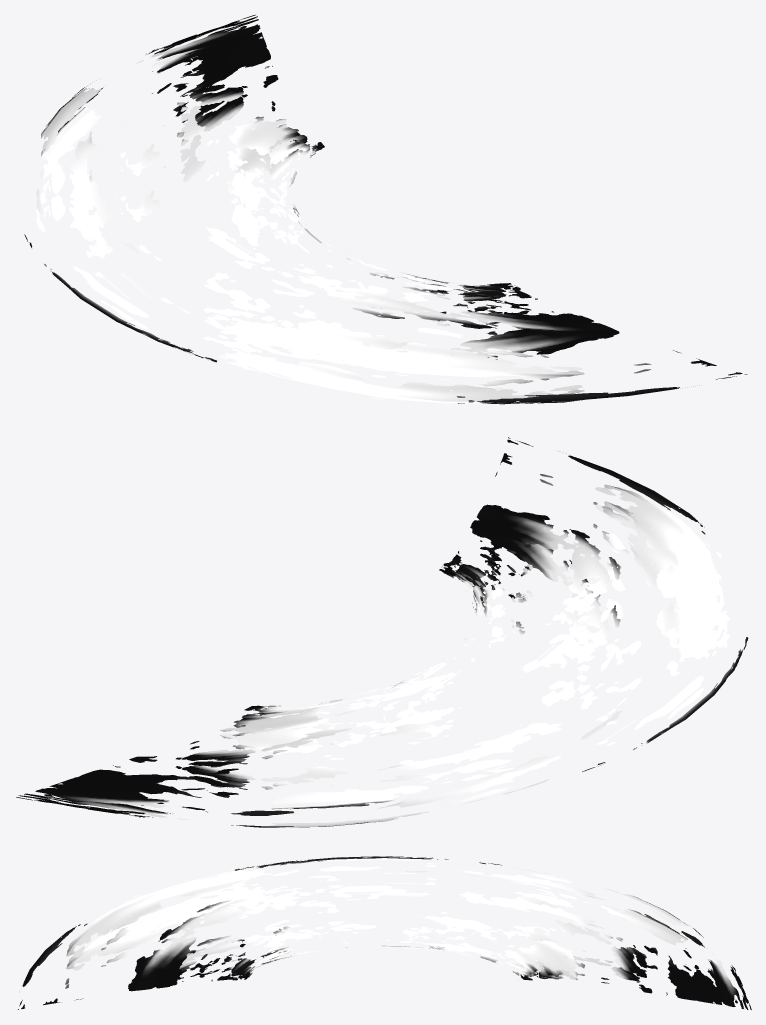
File: DefaultSlash.fbx
The picture shows the model from 3 angles, top to bottom: view 1: azimuth 30°, elevation 25°; view 2: azimuth 150°, elevation 25°; view 3: azimuth 270°, elevation 25°; orthographic projection. The views are drawn at different scales.
Visible parts, largest first — view 1: SM_e_cmn_Slash003.001; view 2: SM_e_cmn_Slash003.001; view 3: SM_e_cmn_Slash003.001.
Part boxes in pixels (x1,y1,x2,y2): SM_e_cmn_Slash003.001: (24,14,747,404); SM_e_cmn_Slash003.001: (16,437,748,827); SM_e_cmn_Slash003.001: (18,856,751,1009).
Bounding box in the file's own units: 237 × 27.66 × 479.
1 material, 1 textured.
